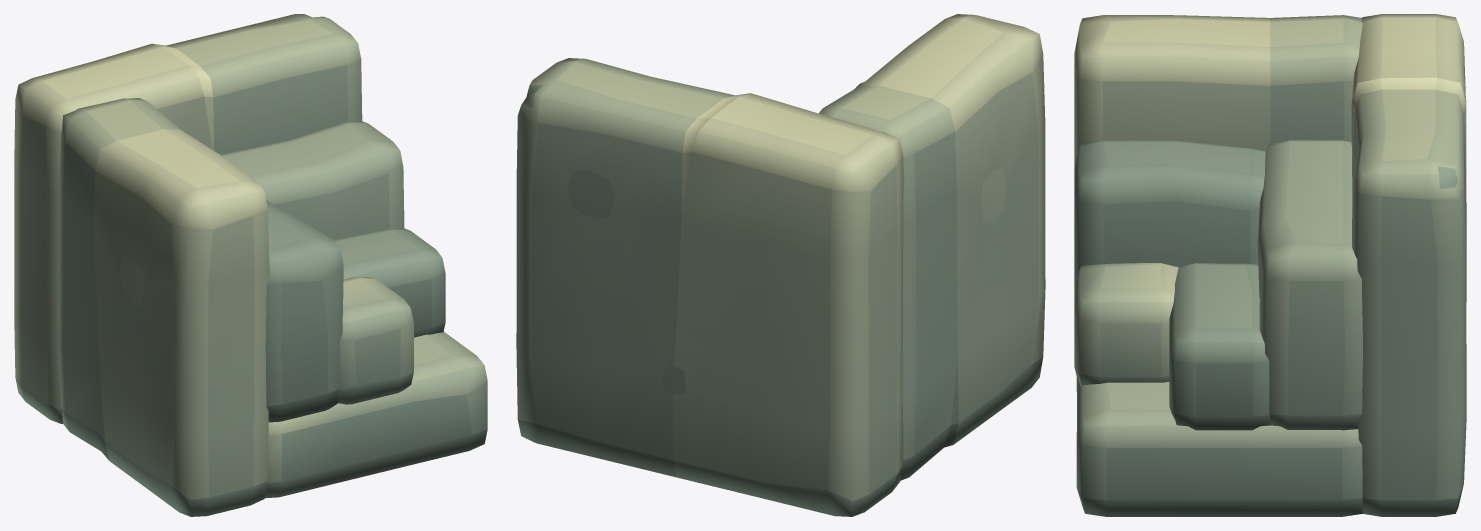
File: stair_stone1_corner_conc_LOD_group.fbx
3 renders of one model, left to right at view 1: azimuth 30°, elevation 25°; view 2: azimuth 150°, elevation 25°; view 3: azimuth 270°, elevation 25°, orthographic. The views are drawn at different scales.
Visible parts, largest first — view 1: stair_stone1_corner_conc_LOD0; view 2: stair_stone1_corner_conc_LOD0; view 3: stair_stone1_corner_conc_LOD0.
Part boxes in pixels (bbox=[...]): stair_stone1_corner_conc_LOD0: bbox=[14, 14, 487, 516]; stair_stone1_corner_conc_LOD0: bbox=[516, 14, 1045, 516]; stair_stone1_corner_conc_LOD0: bbox=[1074, 14, 1466, 516].
Size of what is drawn, in the model's own units: 107 by 106 by 106.
Materials: 1 (1 with a texture image).
